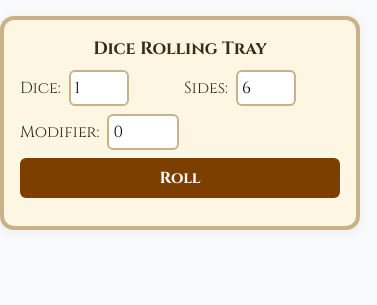
Test: DiceTray Component - Fix Validation › Dice Rolling Functionality › rolls dice and displays results
Click the button "Roll" at coordinates (180, 178), box [20, 158, 340, 198]
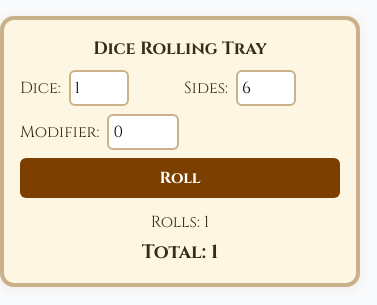
Check: the text "Total: 1" is shown, box [142, 239, 218, 265]
